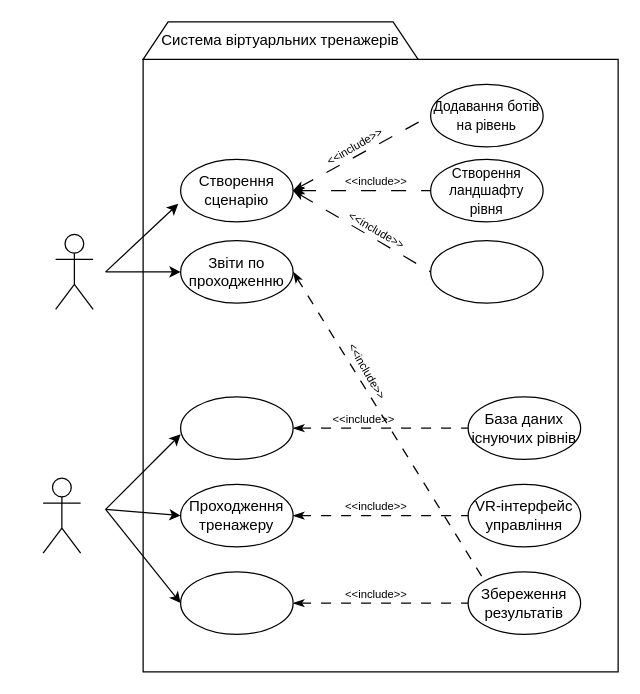
The diagram is 640 pixels wide and 694 high, and some of its shapes have lost their labels. Each missing label, with the box of its shape:
Адміністратор: (54, 233, 93, 309)
Вибір тренажеру: (179, 396, 293, 459)
Визначення критеріїв успіху проходження: (429, 239, 543, 303)
Збереження результату проходження: (179, 571, 293, 634)
Користувач: (42, 477, 81, 553)
